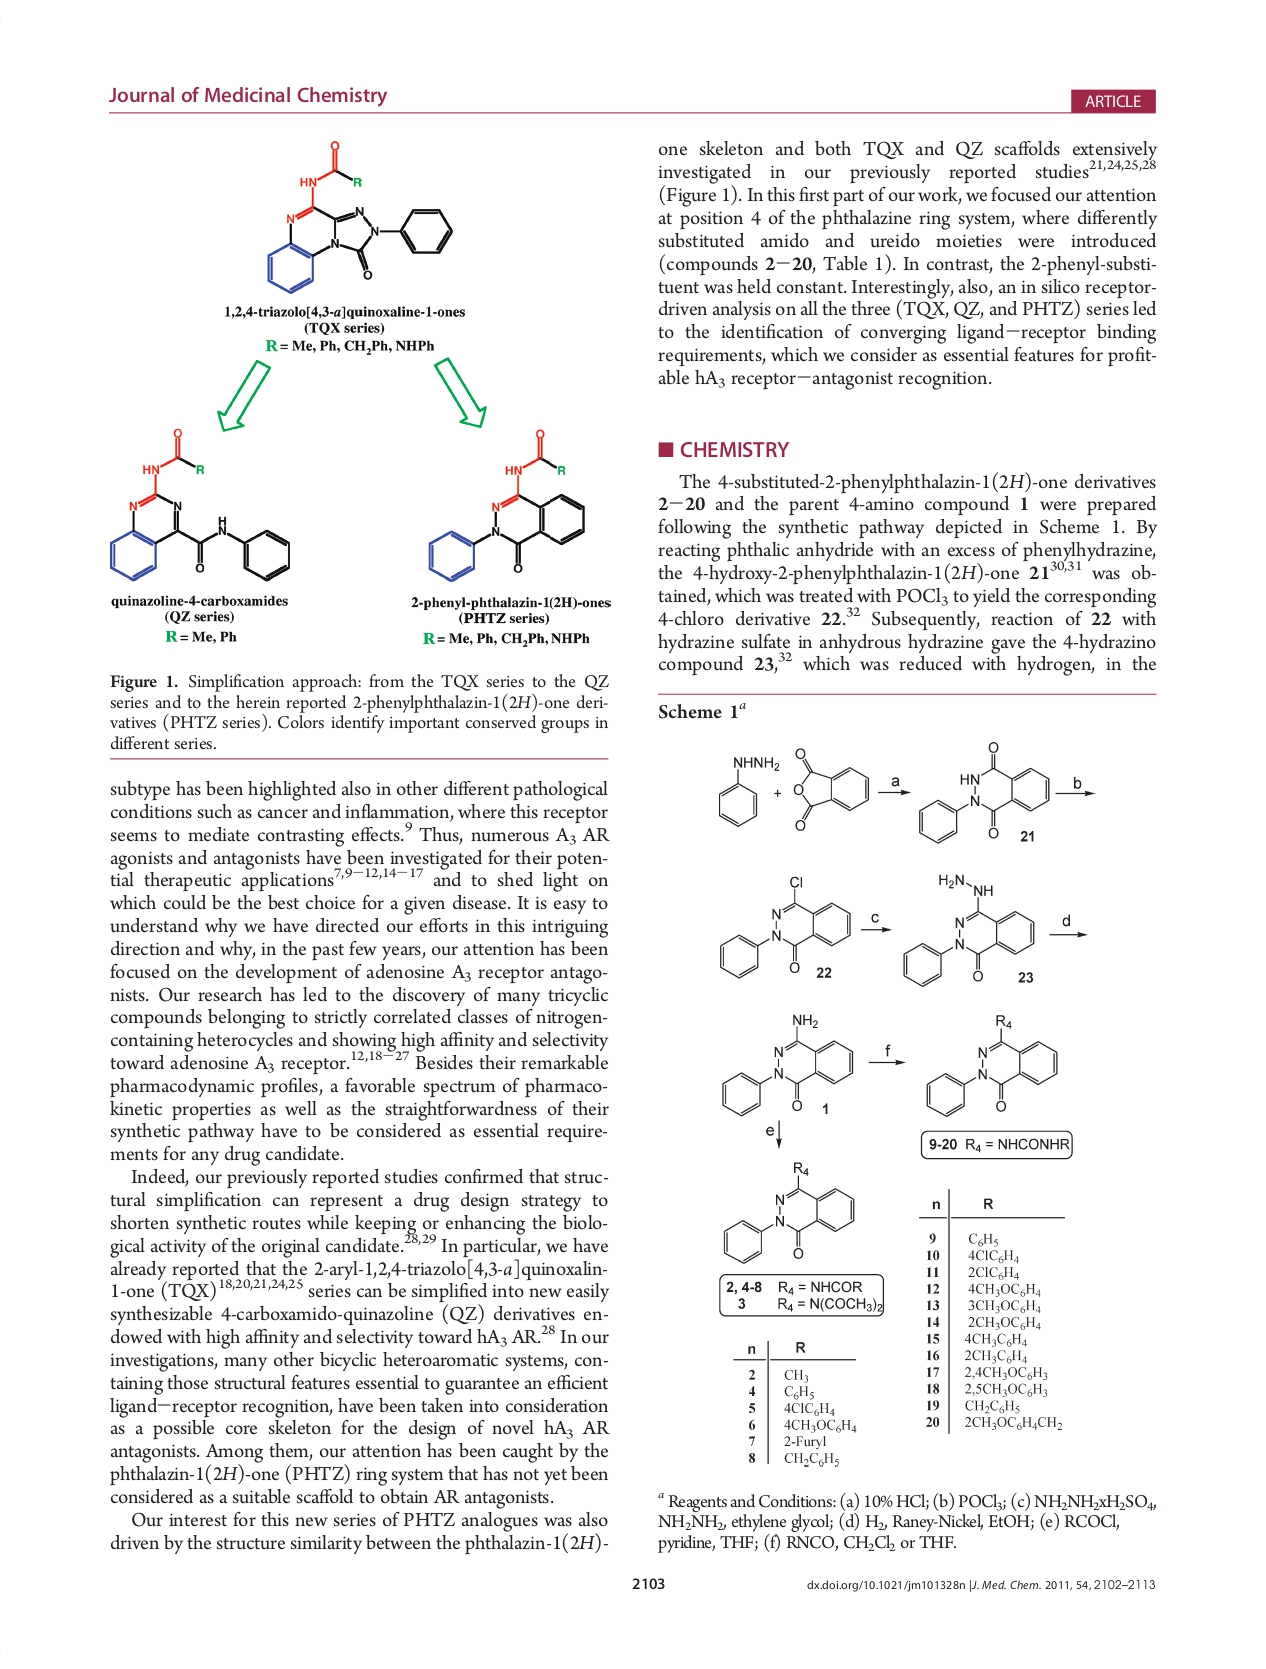exist_molecular: (259, 136, 457, 295), (104, 426, 293, 585), (424, 427, 590, 585), (899, 868, 1037, 989), (715, 1157, 862, 1267), (914, 737, 1055, 847), (715, 870, 852, 981), (922, 1012, 1065, 1118), (717, 1011, 858, 1118), (789, 743, 872, 833), (713, 754, 781, 829)
